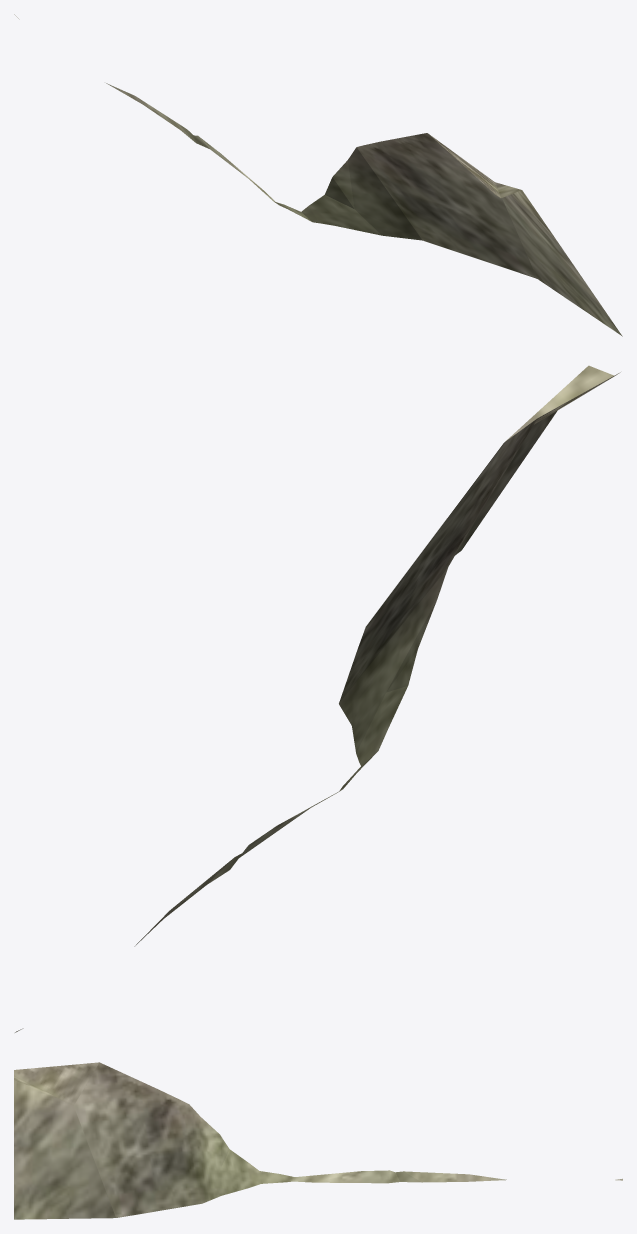
The picture shows the model from 3 angles, top to bottom: view 1: azimuth 30°, elevation 25°; view 2: azimuth 150°, elevation 25°; view 3: azimuth 270°, elevation 25°; orthographic projection. The views are drawn at different scales.
Size of the model in its own units: 0.9068 by 1.26 by 5.9.
1 material, 1 textured.
